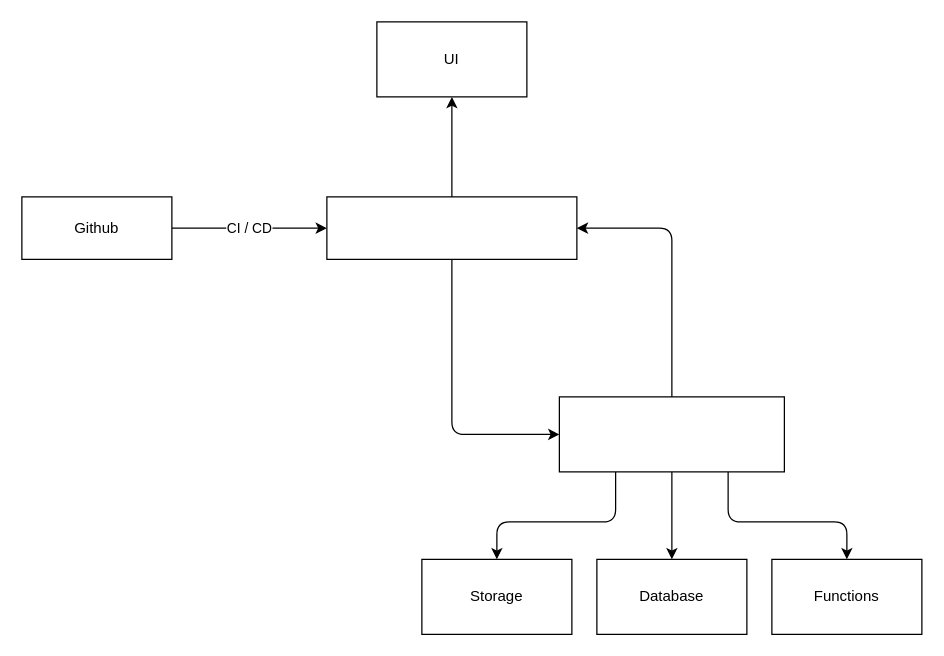
The diagram is 944 pixels wide and 656 high, and some of its shapes have lost their labels. The centre of each missing label's shape, as x and y in pixels:
Digital Ocean: (x=451, y=227)
Supabase: (x=671, y=434)
